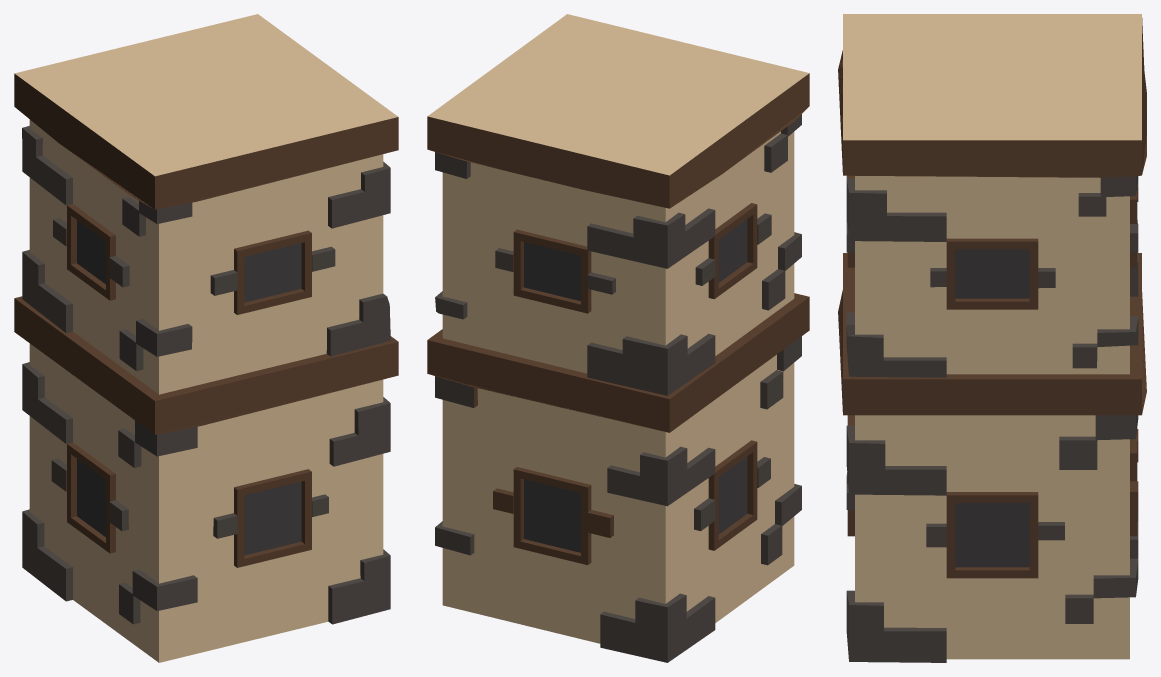
Rendered from medieval2.fbx.
3 renders of one model, left to right at view 1: azimuth 30°, elevation 25°; view 2: azimuth 150°, elevation 25°; view 3: azimuth 270°, elevation 25°, orthographic. The views are drawn at different scales.
Visible parts, largest first — view 1: Cube; view 2: Cube; view 3: Cube.
Part boxes in pixels (left/top/right/bottom): Cube: left=14, top=14, right=398, bottom=662; Cube: left=427, top=14, right=809, bottom=662; Cube: left=838, top=14, right=1146, bottom=662.
Size of the model in its own units: 899 by 1682 by 899.
